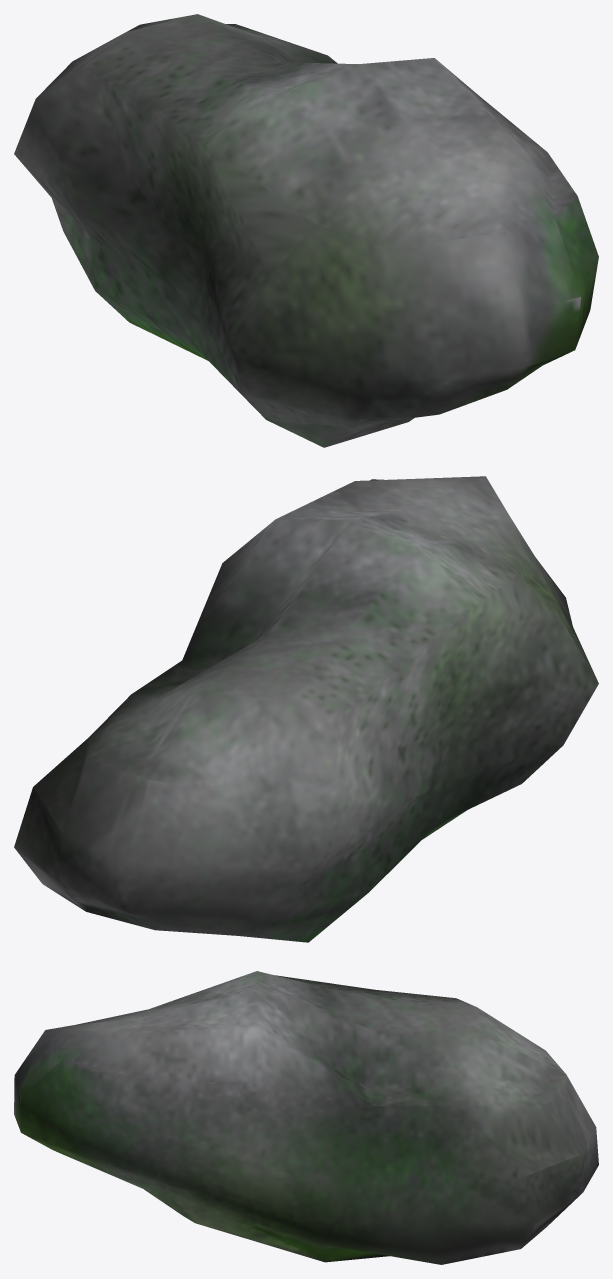
File: Rocks 07.glb
3 renders of one model, top to bottom at view 1: azimuth 30°, elevation 25°; view 2: azimuth 150°, elevation 25°; view 3: azimuth 270°, elevation 25°, orthographic. The views are drawn at different scales.
Parts seen in each view (by area): view 1: Rock 07; view 2: Rock 07; view 3: Rock 07.
Part boxes in pixels (left/top/right/bottom): Rock 07: left=14, top=14, right=598, bottom=447; Rock 07: left=14, top=476, right=598, bottom=942; Rock 07: left=14, top=971, right=598, bottom=1264.
Size of what is drawn, in the model's own units: 1.54 by 1.33 by 2.93.
Materials: 1 (1 with a texture image).
